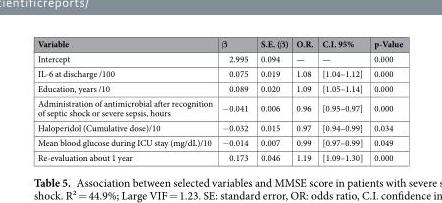table: (36, 37, 402, 163)
table column: (36, 37, 216, 163), (317, 37, 367, 163), (253, 37, 291, 163), (216, 37, 253, 163), (367, 37, 402, 163), (291, 37, 317, 163)
table column header: (36, 37, 402, 50)
table row: (36, 95, 402, 119), (36, 50, 402, 65), (36, 65, 402, 80), (36, 80, 402, 95), (36, 119, 402, 134), (36, 134, 402, 149), (36, 149, 402, 163), (36, 37, 402, 50)
